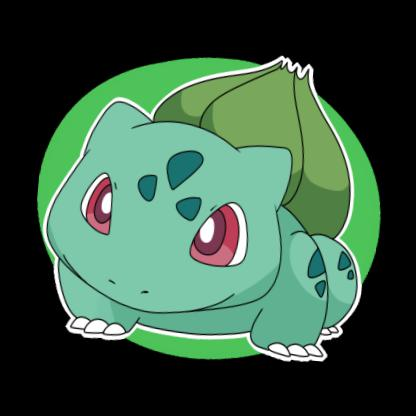Bulbasaur: (1, 1, 400, 416)
